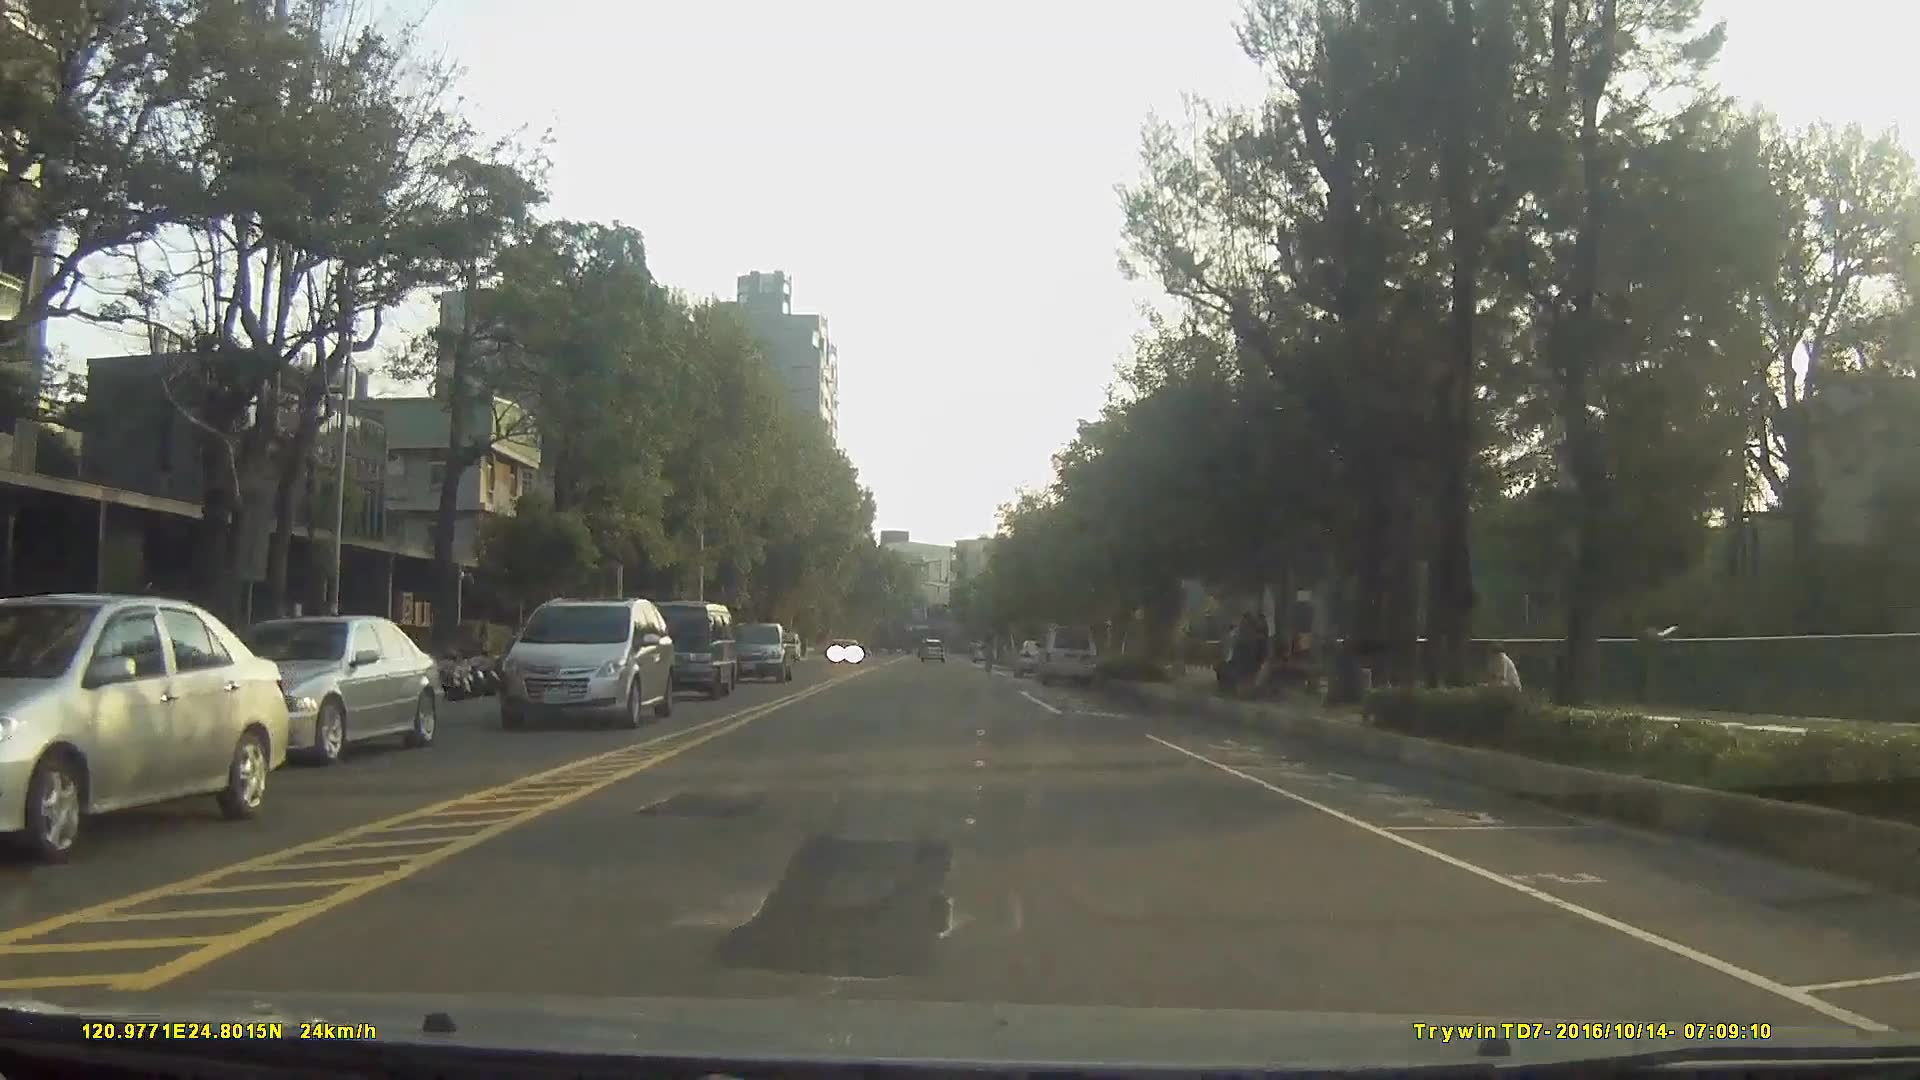rider: (979, 631, 999, 677)
vehicle: (0, 593, 287, 858), (198, 616, 442, 763), (496, 599, 673, 730), (630, 599, 736, 699), (719, 619, 790, 680), (1034, 623, 1097, 685), (1014, 641, 1056, 683), (915, 639, 946, 663)
